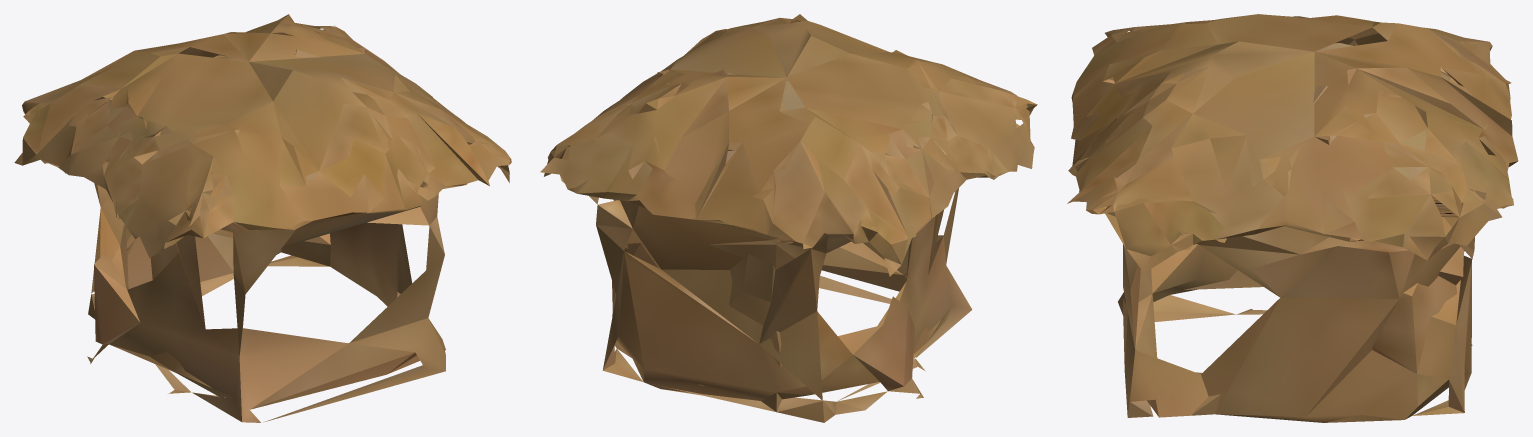
The model's file is beach_bar_low.glb.
The picture shows the model from 3 angles, left to right: view 1: azimuth 30°, elevation 25°; view 2: azimuth 150°, elevation 25°; view 3: azimuth 270°, elevation 25°; orthographic projection. The views are drawn at different scales.
Visible parts, largest first — view 1: output_unwrapped; view 2: output_unwrapped; view 3: output_unwrapped.
Boxes of the visible parts, <box> form: output_unwrapped: <box>14,14,511,422</box>; output_unwrapped: <box>540,14,1037,422</box>; output_unwrapped: <box>1067,14,1518,422</box>.
Size of the model in its own units: 5 by 4.03 by 4.97.
Materials: 1 (1 with a texture image).
